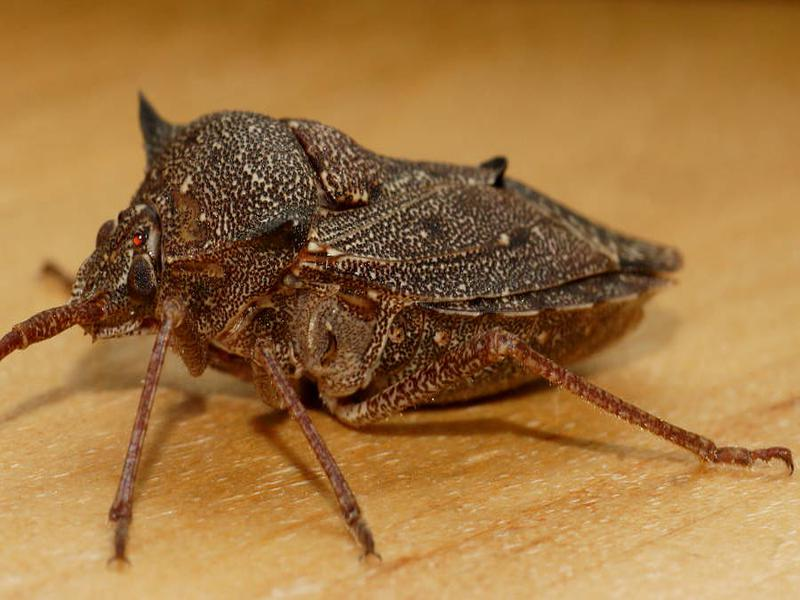Spiny_beetle: (35, 97, 707, 464)
